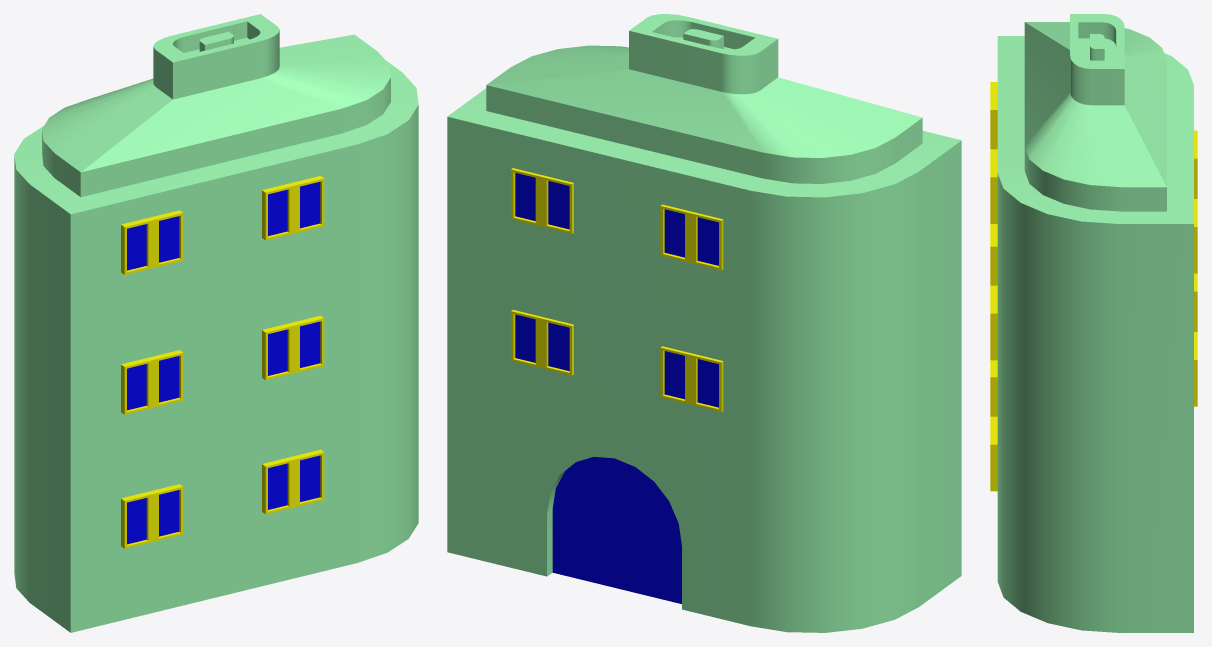
The picture shows the model from 3 angles, left to right: view 1: azimuth 30°, elevation 25°; view 2: azimuth 150°, elevation 25°; view 3: azimuth 270°, elevation 25°; orthographic projection. The views are drawn at different scales.
Parts seen in each view (by area): view 1: polySurface129, pCube116, pCube119, pCube121, pCube117, pCube118, pCube120; view 2: polySurface129, pCube131, pCube132, pCube130, pCube133; view 3: polySurface129, pCube118, pCube120, pCube117, pCube116, pCube119, pCube121.
Part boxes in pixels (x1,y1,x2,y2): polySurface129: [14, 14, 418, 632]; pCube116: [121, 210, 183, 274]; pCube119: [121, 350, 183, 414]; pCube121: [121, 484, 183, 548]; pCube117: [262, 176, 324, 240]; pCube118: [262, 315, 324, 380]; pCube120: [262, 449, 324, 514]; polySurface129: [447, 14, 961, 632]; pCube131: [660, 346, 723, 412]; pCube132: [660, 204, 723, 270]; pCube130: [511, 310, 573, 375]; pCube133: [511, 168, 573, 233]; polySurface129: [997, 14, 1193, 632]; pCube118: [990, 285, 997, 360]; pCube120: [990, 416, 997, 491]; pCube117: [990, 149, 997, 223]; pCube116: [990, 82, 997, 149]; pCube119: [990, 224, 997, 285]; pCube121: [990, 360, 997, 416].
Size of the model in its own units: 36.68 by 45.29 by 17.08.
